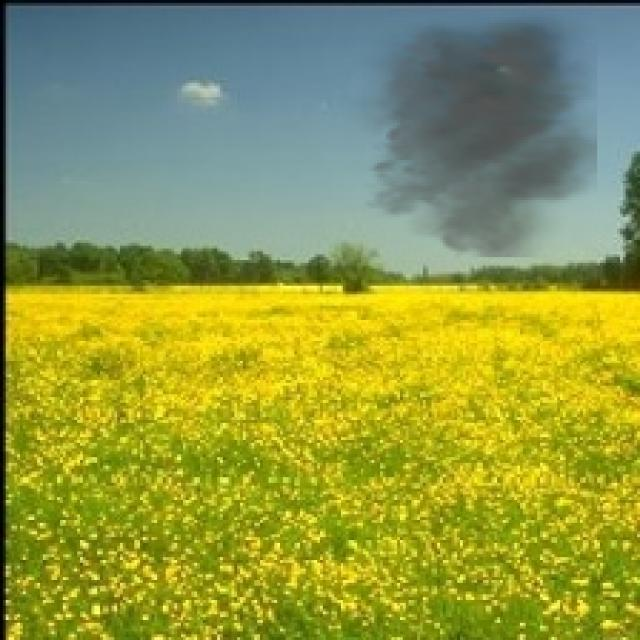smoke: (340, 6, 597, 257)
